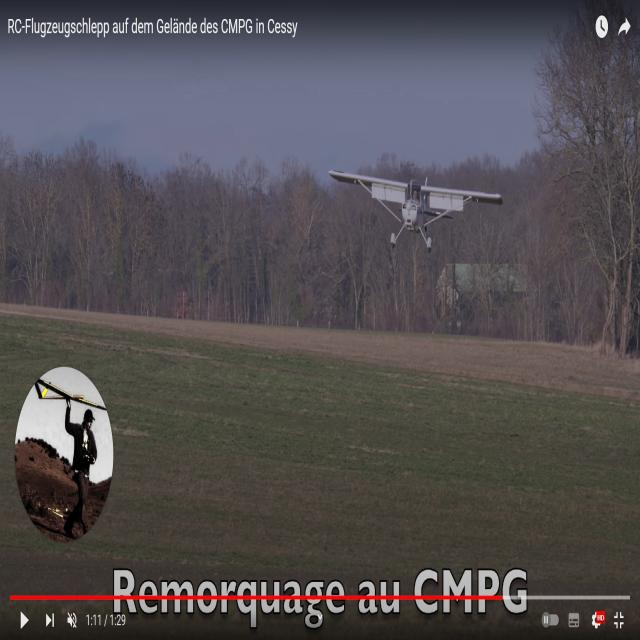iha: (330, 201, 503, 217)
